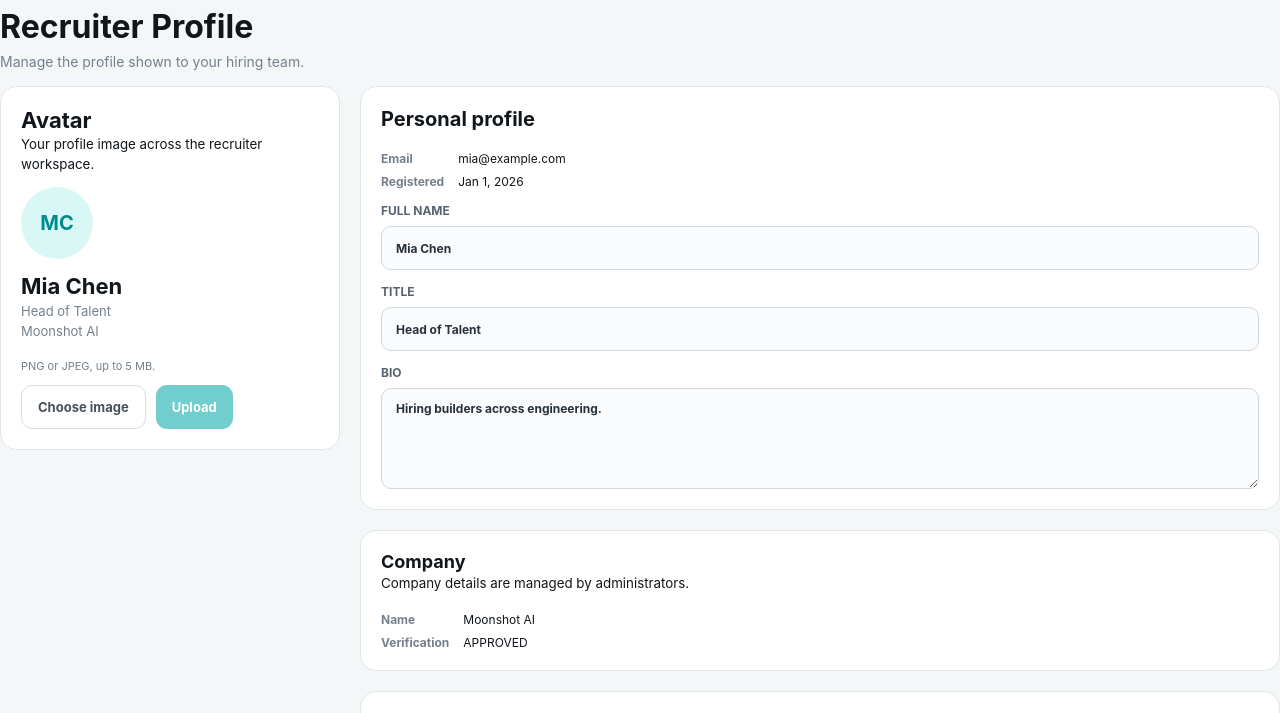
Test: ProfilePage › maps server field errors and keeps the input
Expected: the field showing "Mia Chen" is shown, [381,226,1259,270]
Replace the text in the field showing "Head of Talent" with "Senior Talent" at coordinates (820, 329), box [381,307,1259,351]
(page scrolled)
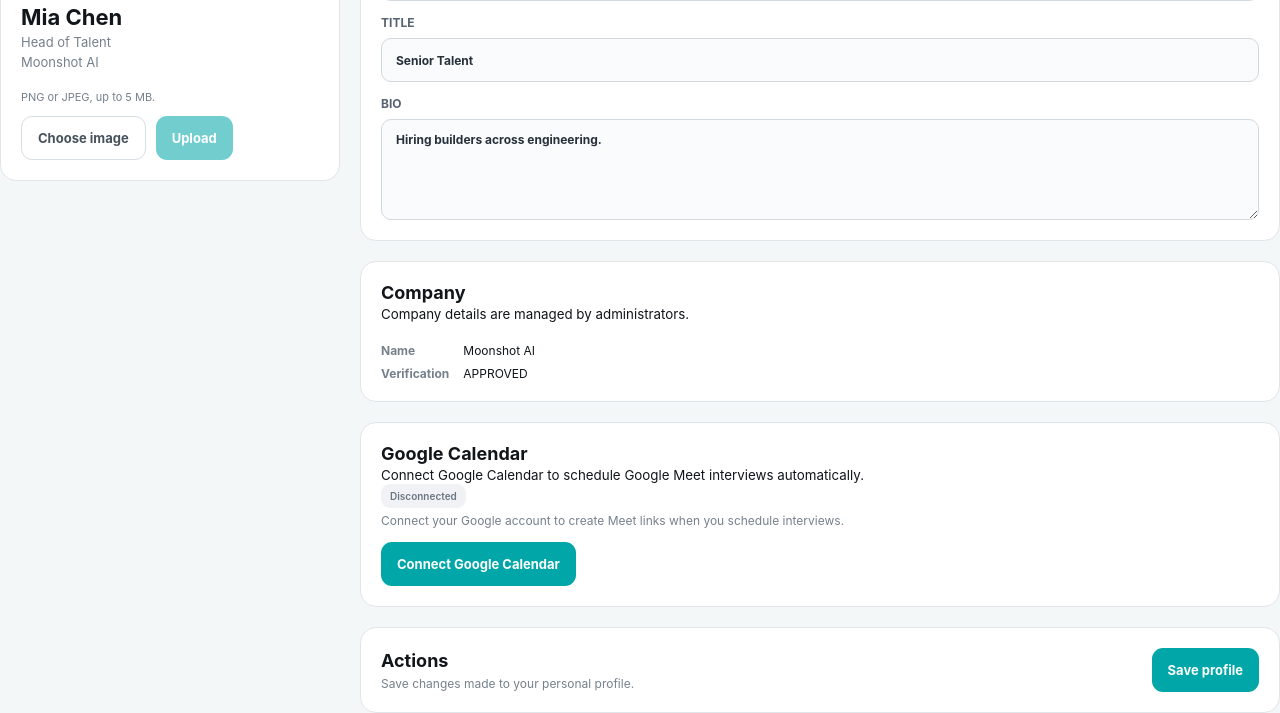
Click the button "Save profile" at coordinates (1205, 670), box [1152,648,1259,692]
(page scrolled)
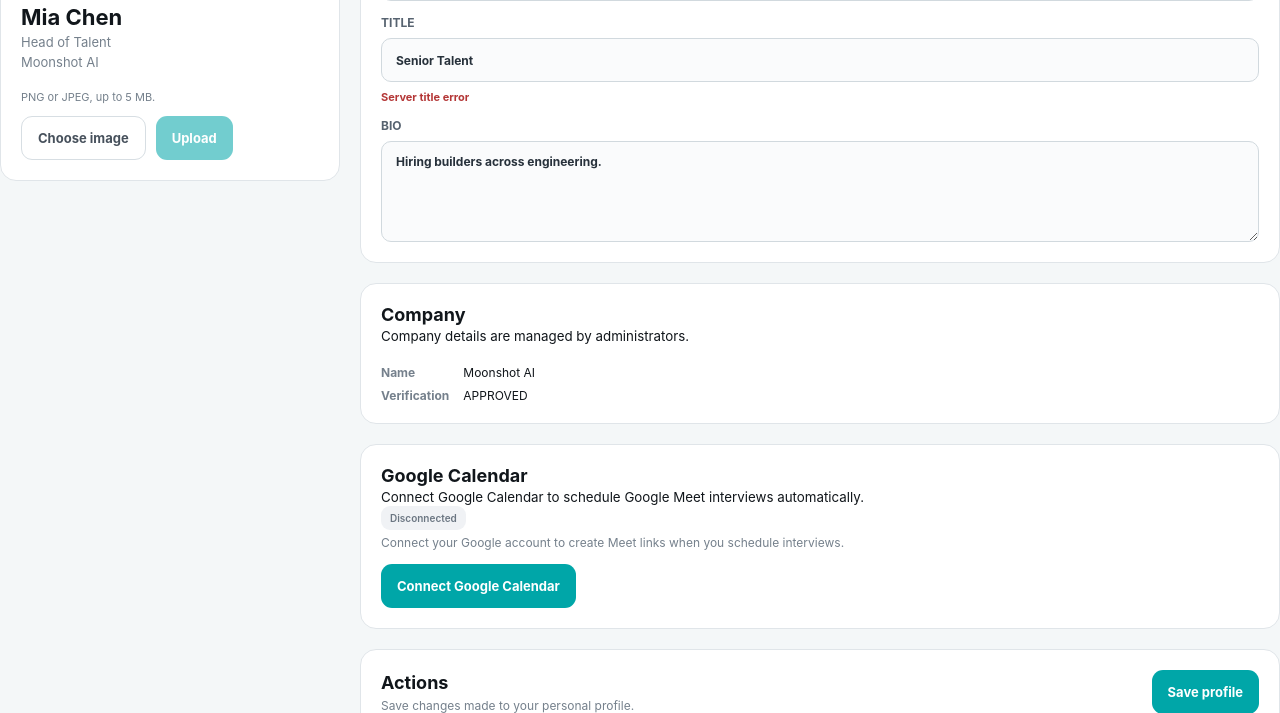
Result: the text "Server title error" is shown at [381,90,469,104]
